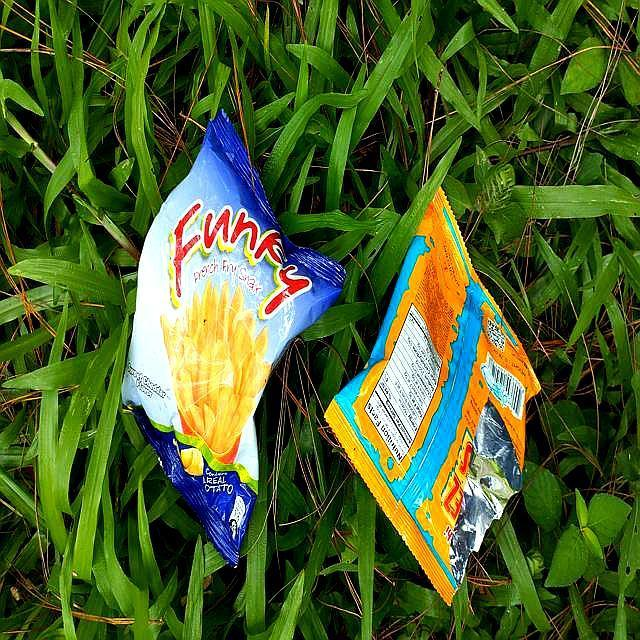Non-biodegradable: (74, 101, 364, 578), (318, 179, 558, 615)
